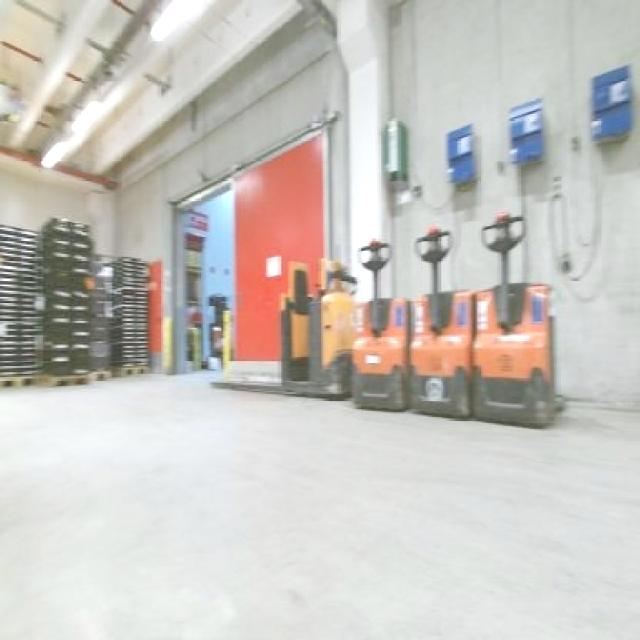floor: (0, 371, 637, 637)
pallets: (0, 217, 146, 383), (0, 223, 38, 372)
